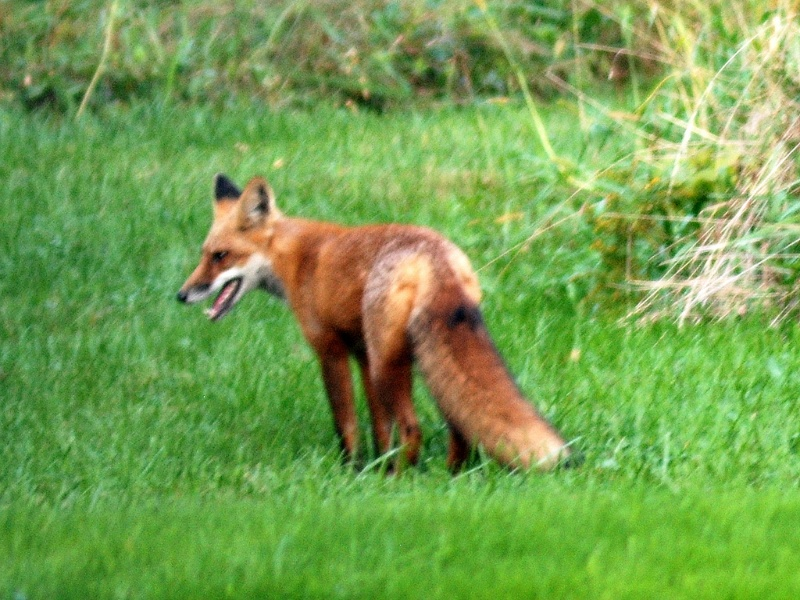fox: (169, 169, 581, 488)
